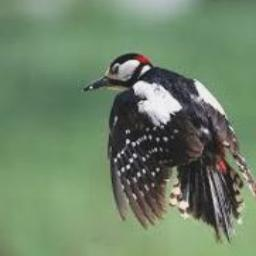Woodpecker: (82, 52, 256, 246)
